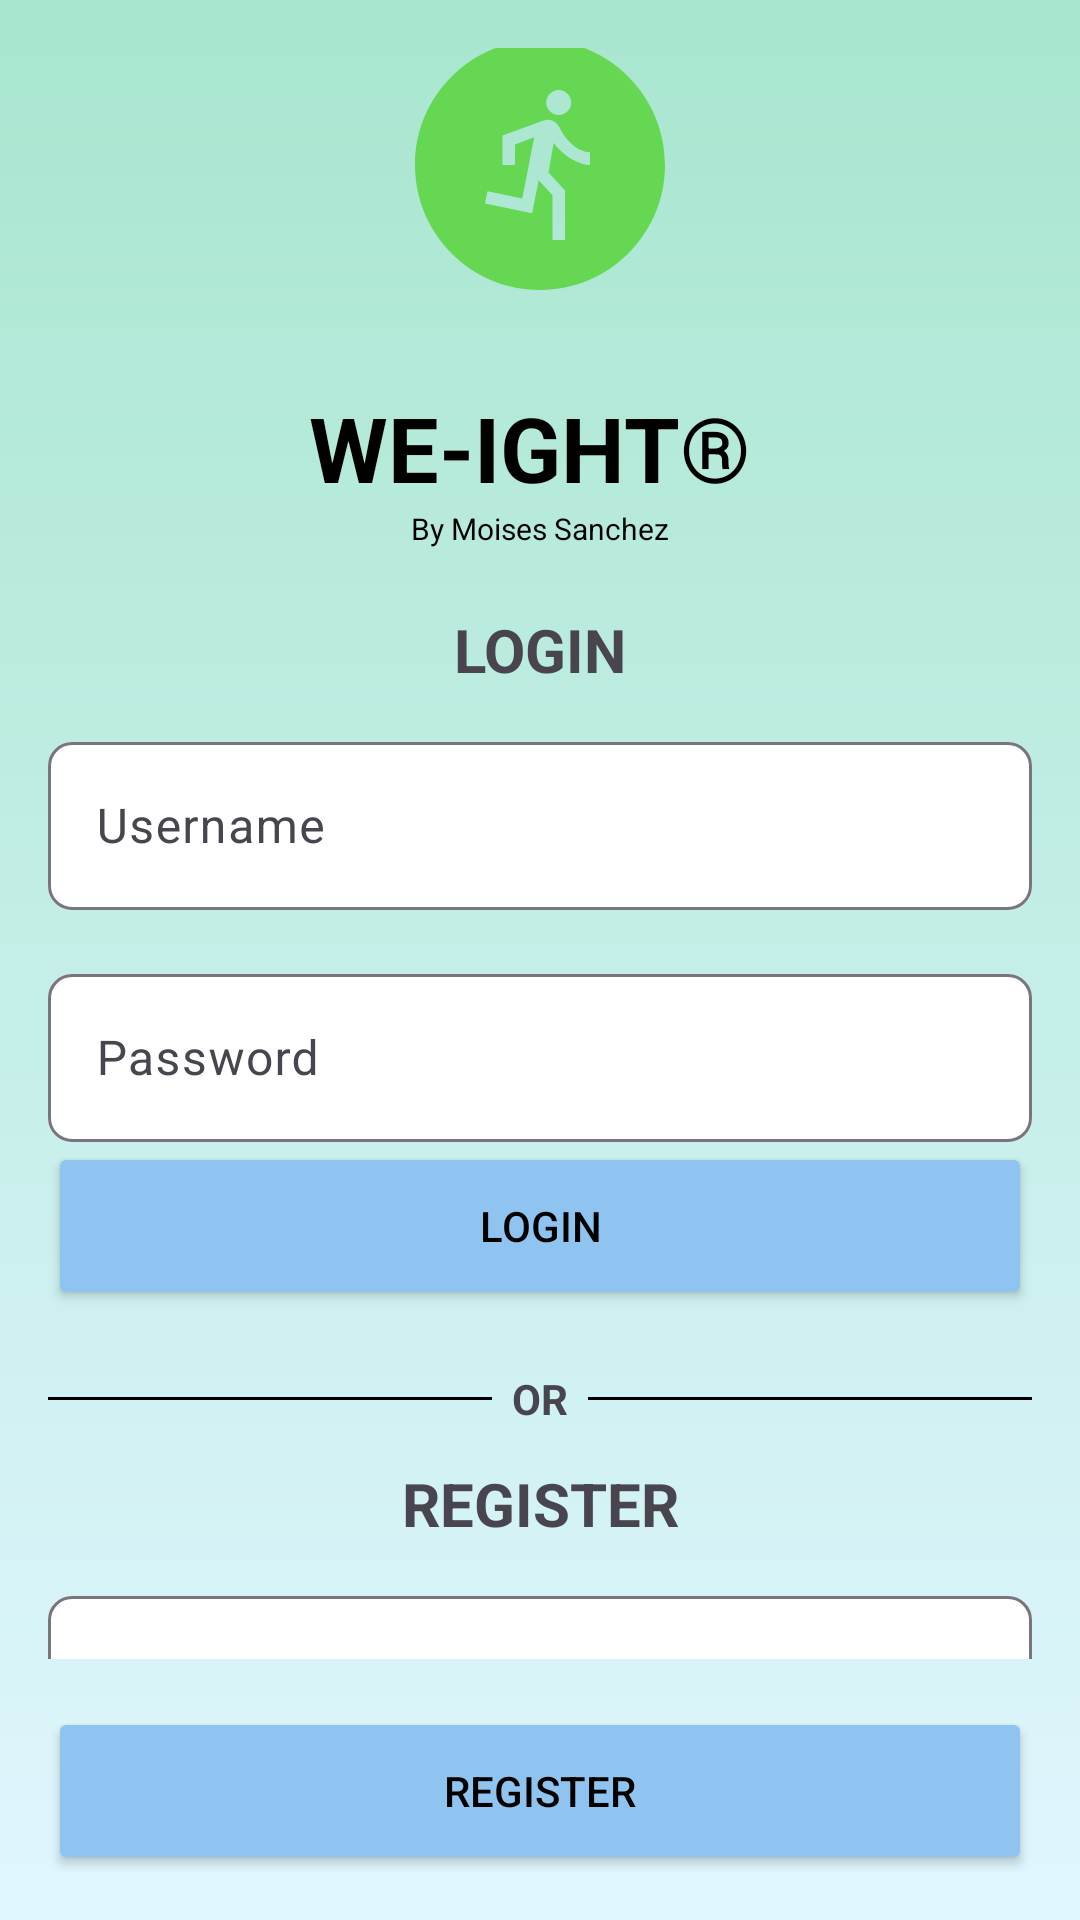

Where icons sit on this 1080*1920 app screen, as (x1,y1,x2,y2):
run circle: (415,48,665,290)
